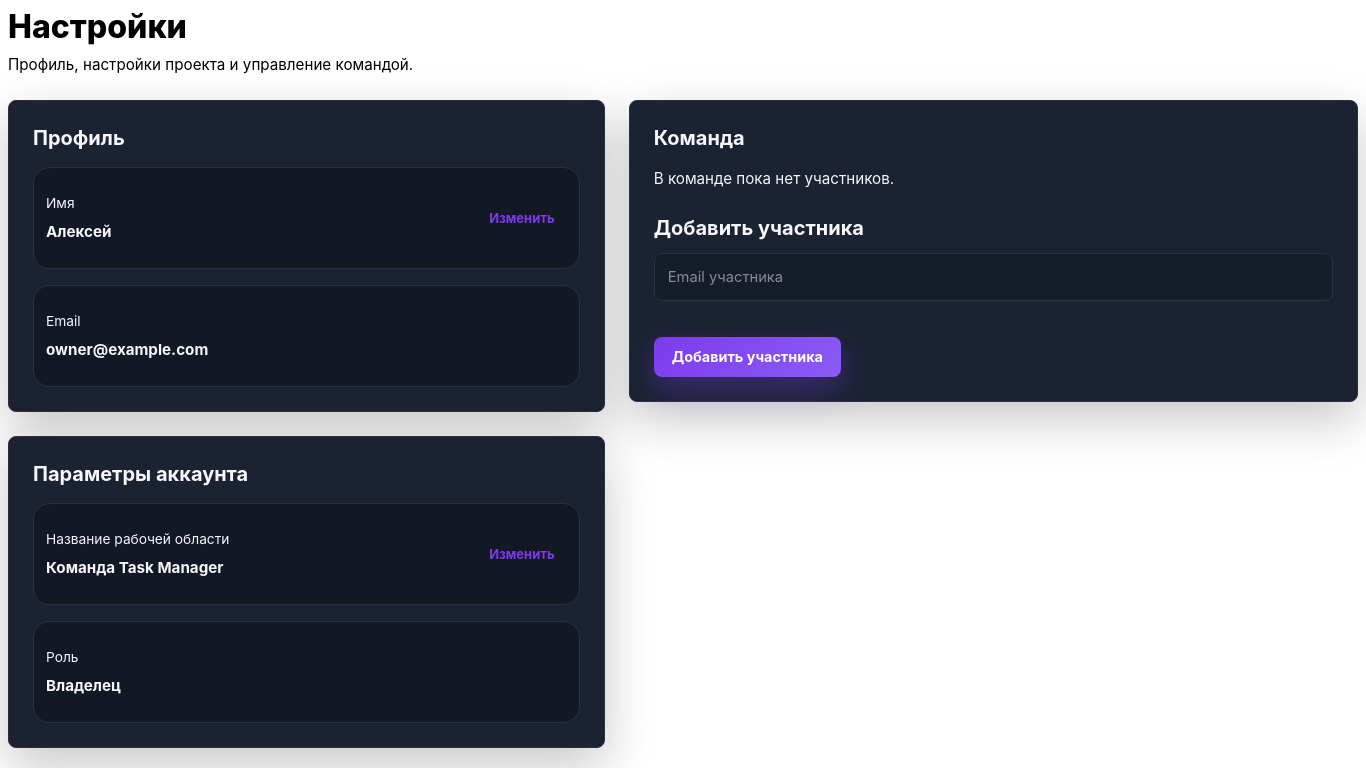
SettingsPage › adds a member from settings and shows success feedback
This screenshot has width=1366, height=768.
Type "member@example.com" into the field labelled "Email участника" at [993, 277], box [654,258,1333,296]
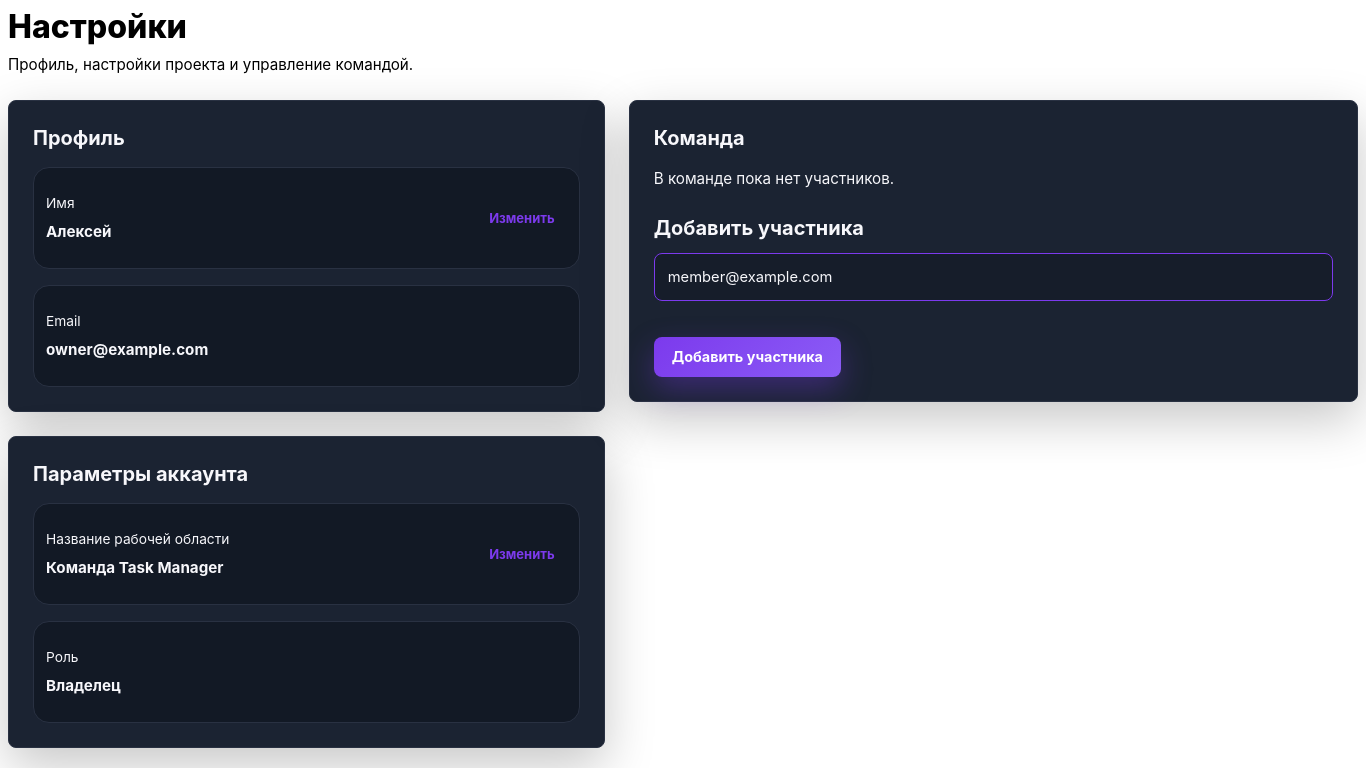
Click the button "Добавить участника" at [747, 357], box [654,337,841,377]
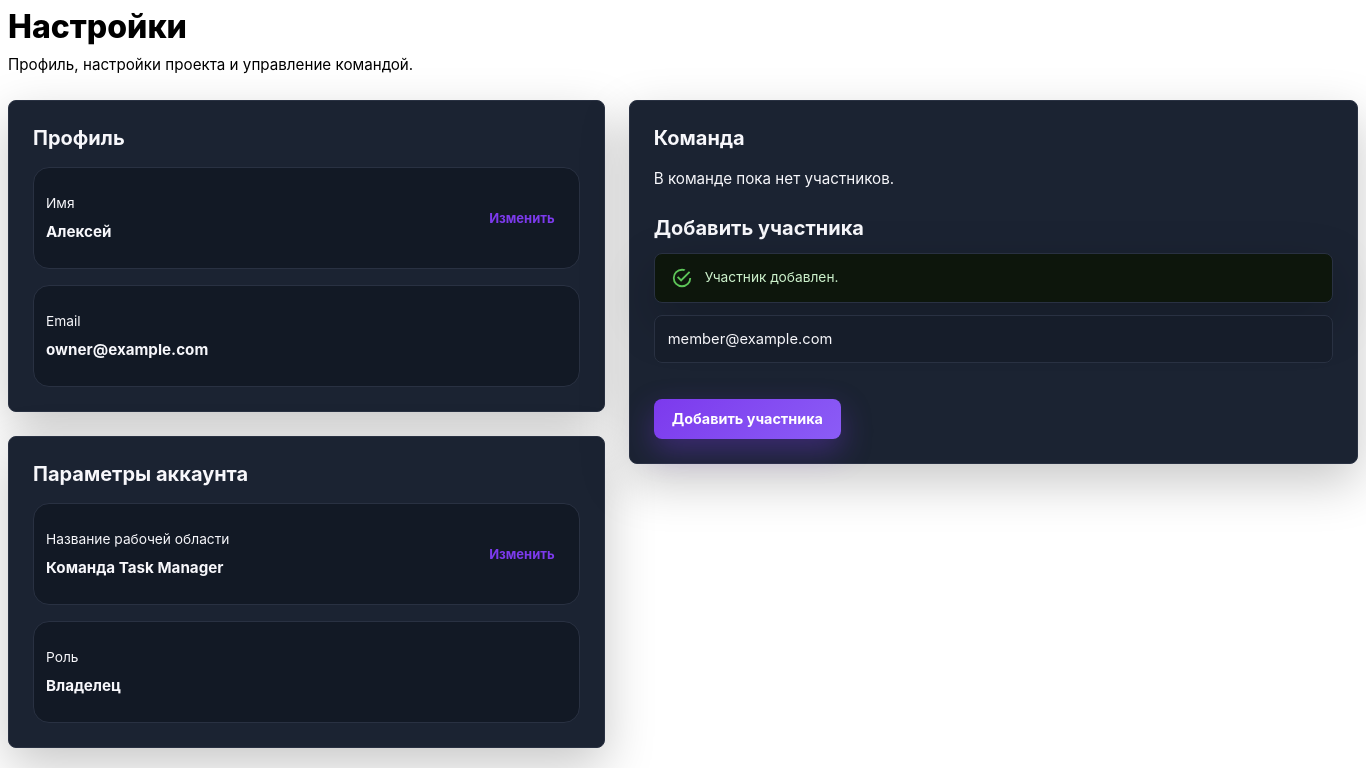
Result: the text "Участник добавлен." is shown at [705,269,838,285]
